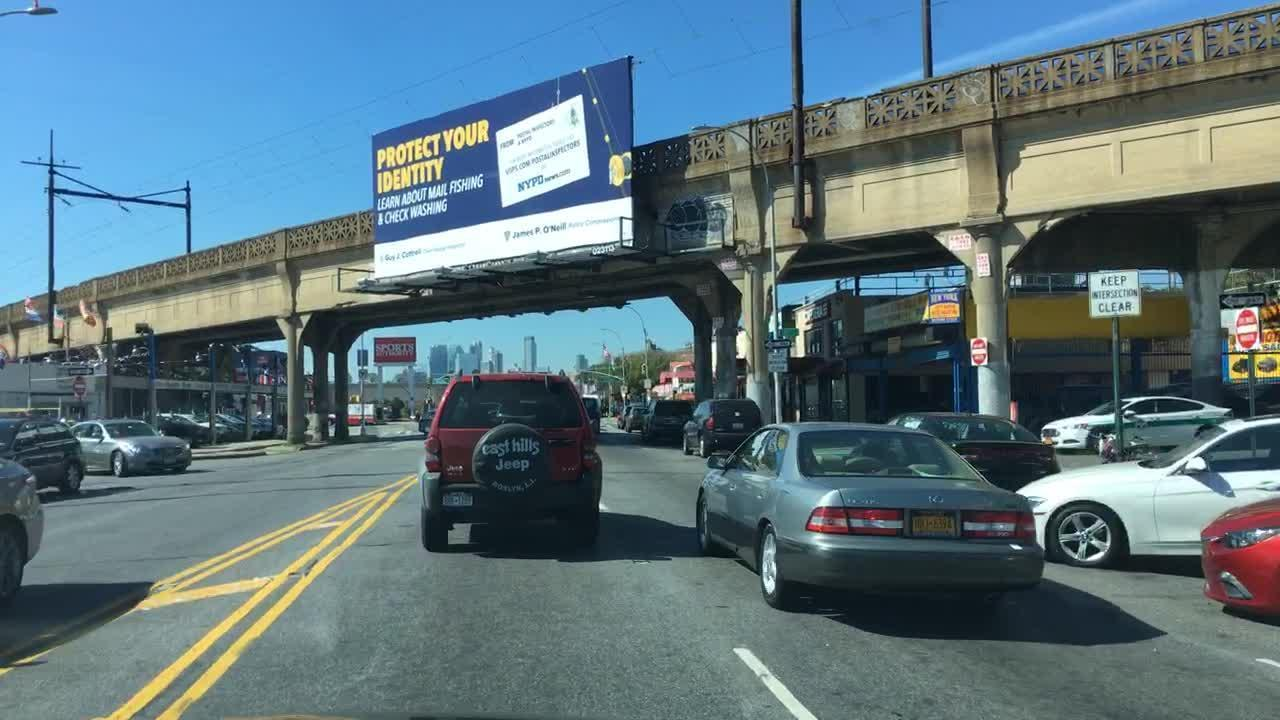jeep: (491, 451, 539, 476)
lexus: (923, 491, 949, 506)
